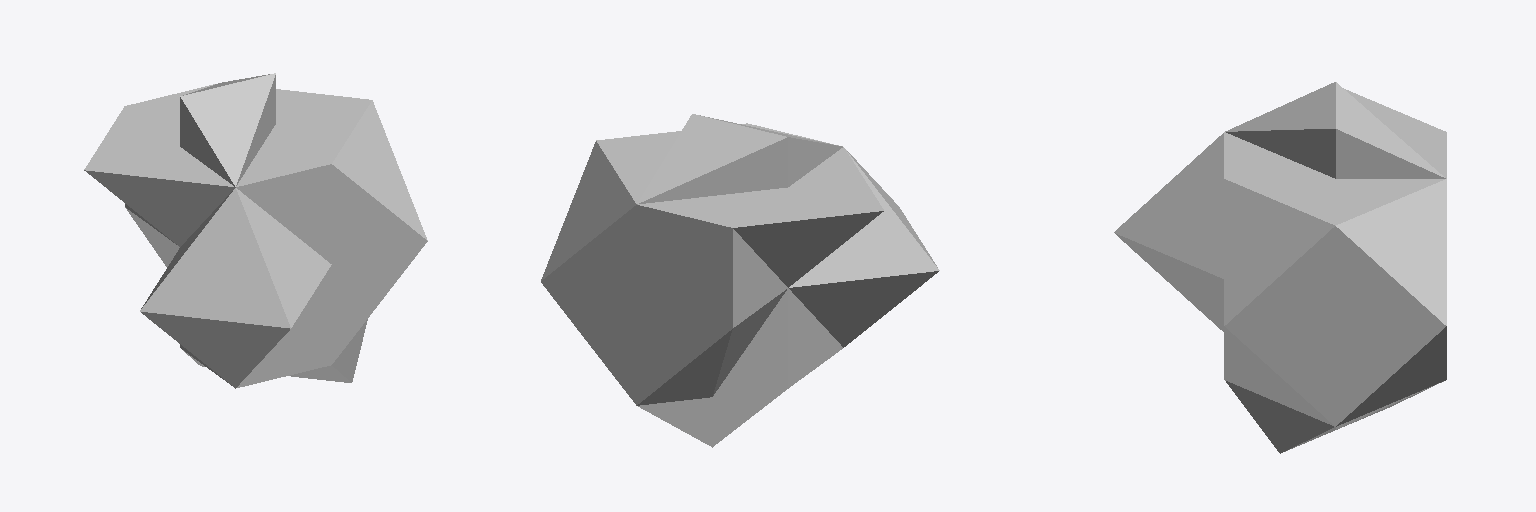
Rendered from Geometric.obj.
3 renders of one model, left to right at view 1: azimuth 30°, elevation 25°; view 2: azimuth 150°, elevation 25°; view 3: azimuth 270°, elevation 25°, orthographic.
Parts seen in each view (by area): view 1: Cube; view 2: Cube; view 3: Cube.
Boxes of the visible parts, <box> form: Cube: <box>84,73,427,388</box>; Cube: <box>541,114,939,447</box>; Cube: <box>1114,82,1446,453</box>.
Bounding box in the file's own units: 3 × 3 × 3.